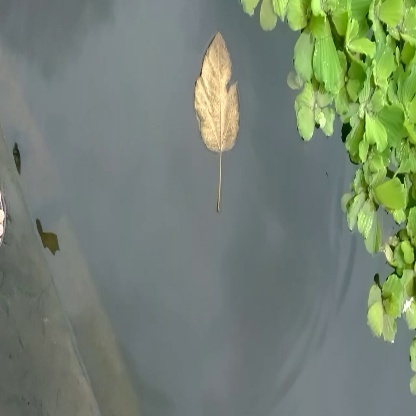leaf: (185, 23, 251, 213)
